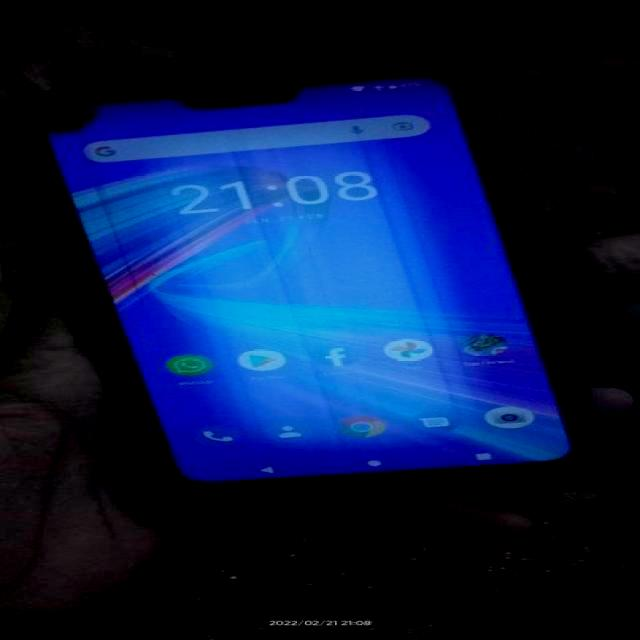phone: (18, 61, 602, 492)
